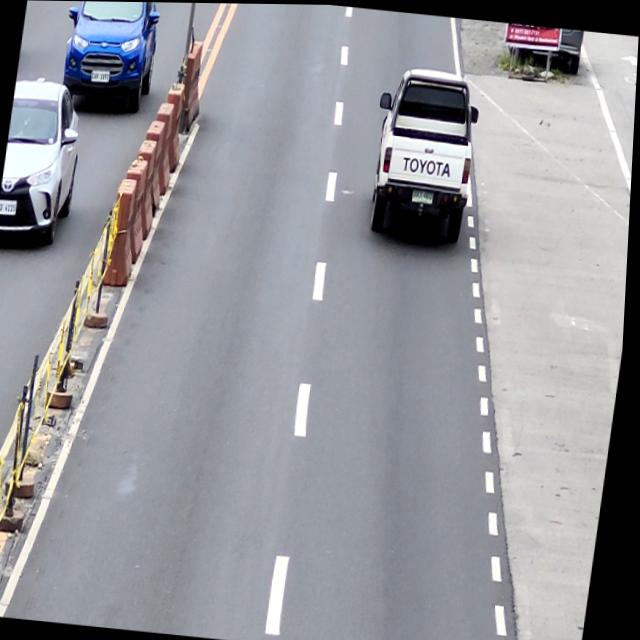Car: (364, 61, 488, 244)
License-Plate: (411, 187, 439, 203)
